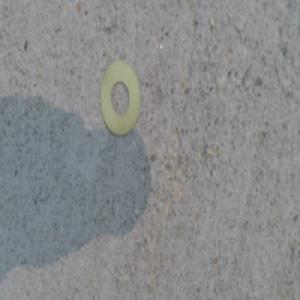Washer: (98, 60, 141, 138)
